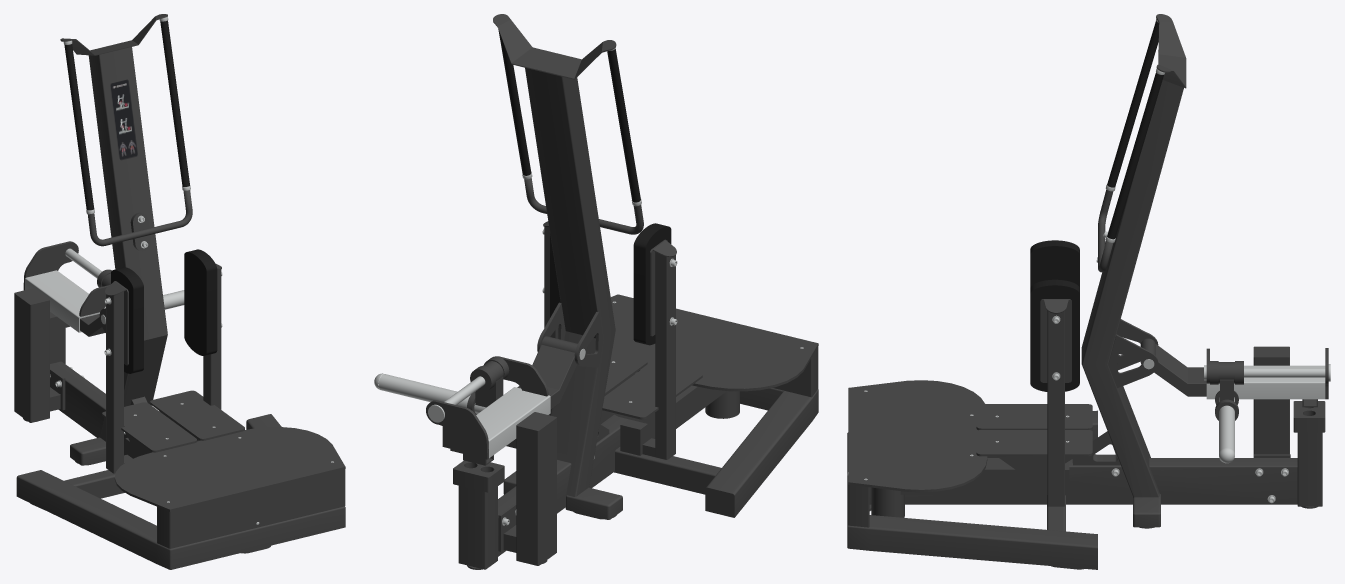
File: Megafitness_94036.glb
3 views of the same model, side by side, from view 1: azimuth 30°, elevation 25°; view 2: azimuth 150°, elevation 25°; view 3: azimuth 270°, elevation 25° (orthographic). The views are drawn at different scales.
Visible parts, largest first — view 1: Cube.013, Cube.026, Cube.002, Cube.004, Cube.017, Circle.015, Cube.054, Cube.022, Cube.028, Cube.008, Cube.034, Circle.055 (+13 smaller); view 2: Cube.013, Cube.026, Cube.002, Cube.017, Cube.054, Cube.010, Cube.006, Circle.037, Cube.034, Cube.028, Circle.055, Cube.008 (+17 smaller); view 3: Cube.026, Cube.013, Cube.008, Cube.002, Cube.027, Cube.017, Circle.015, Cube.022, Cube.020, Cube.028, Cube.034, Circle.055 (+17 smaller).
Boxes of the visible parts, x1,y1,x2,y2 form: Cube.013: (88, 47, 167, 441); Cube.026: (114, 427, 345, 511); Cube.002: (16, 414, 345, 569); Cube.004: (157, 469, 345, 548); Cube.017: (14, 288, 49, 422); Circle.015: (184, 249, 217, 355); Cube.054: (106, 291, 132, 473); Cube.022: (150, 390, 244, 440); Cube.028: (102, 402, 196, 452); Cube.008: (50, 361, 127, 455); Cube.034: (25, 270, 105, 332); Circle.055: (111, 267, 143, 373); Cube.013: (525, 68, 615, 496); Cube.026: (611, 294, 818, 391); Cube.002: (442, 388, 818, 517); Cube.017: (516, 412, 556, 565); Cube.054: (642, 252, 675, 459); Cube.010: (458, 485, 497, 569); Cube.006: (506, 439, 721, 494); Circle.037: (493, 14, 616, 79); Cube.034: (476, 387, 550, 458); Cube.028: (602, 362, 702, 419); Circle.055: (633, 223, 671, 345); Cube.008: (498, 414, 627, 556); Cube.026: (848, 380, 987, 492); Cube.013: (1081, 80, 1183, 497); Cube.008: (869, 458, 1297, 504); Cube.002: (847, 410, 1097, 569); Cube.027: (1047, 310, 1064, 506); Cube.017: (1253, 346, 1289, 457); Circle.015: (1030, 279, 1079, 391); Cube.022: (976, 430, 1092, 456); Cube.020: (900, 460, 1069, 495); Cube.028: (976, 404, 1092, 430); Cube.034: (1206, 365, 1325, 399); Circle.055: (1030, 240, 1079, 288).
Bounding box in the file's own units: 0.9686 × 1.52 × 1.44.
1 material, 1 textured.
